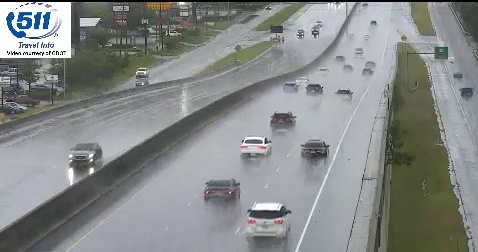car: (247, 203, 290, 238), (204, 179, 240, 200), (241, 136, 272, 157), (271, 111, 296, 130), (301, 139, 327, 157), (306, 83, 323, 96), (336, 89, 352, 101), (283, 81, 298, 92)
